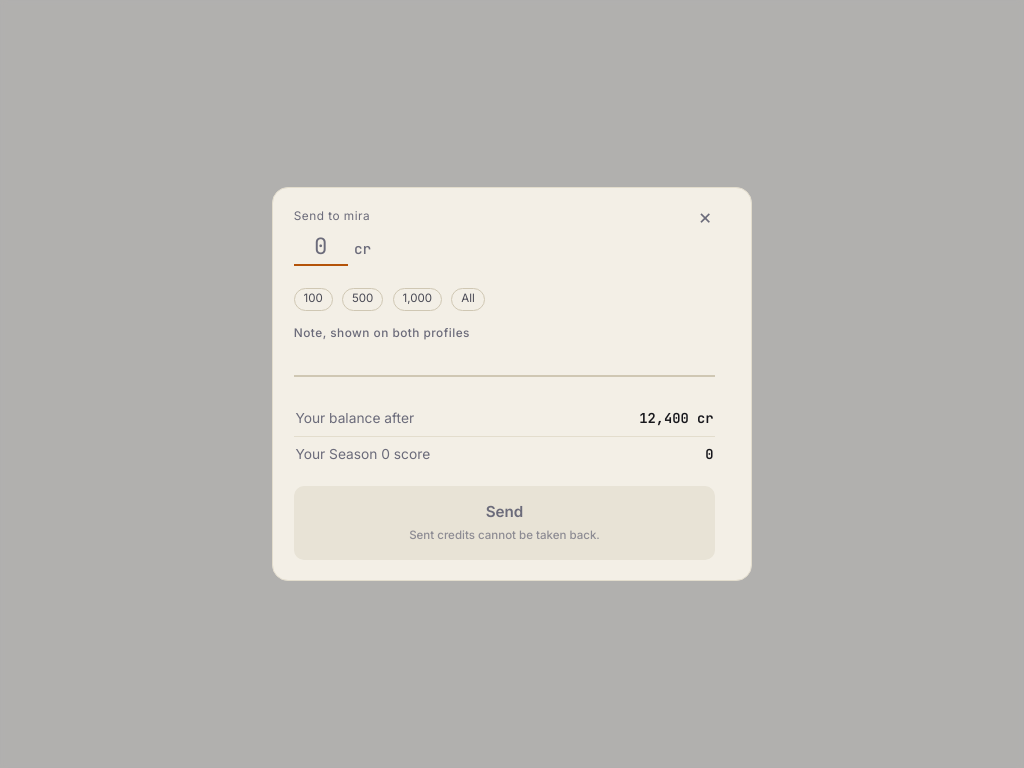
Test: the send ticket › the quick amounts fill the field
The image size is (1024, 768).
Expected: the text with test id "send-balance-after" reads "12,400 cr", [639,409,714,427]
Click the button "1,000". click: x=417, y=299
box: [393,288,442,310]
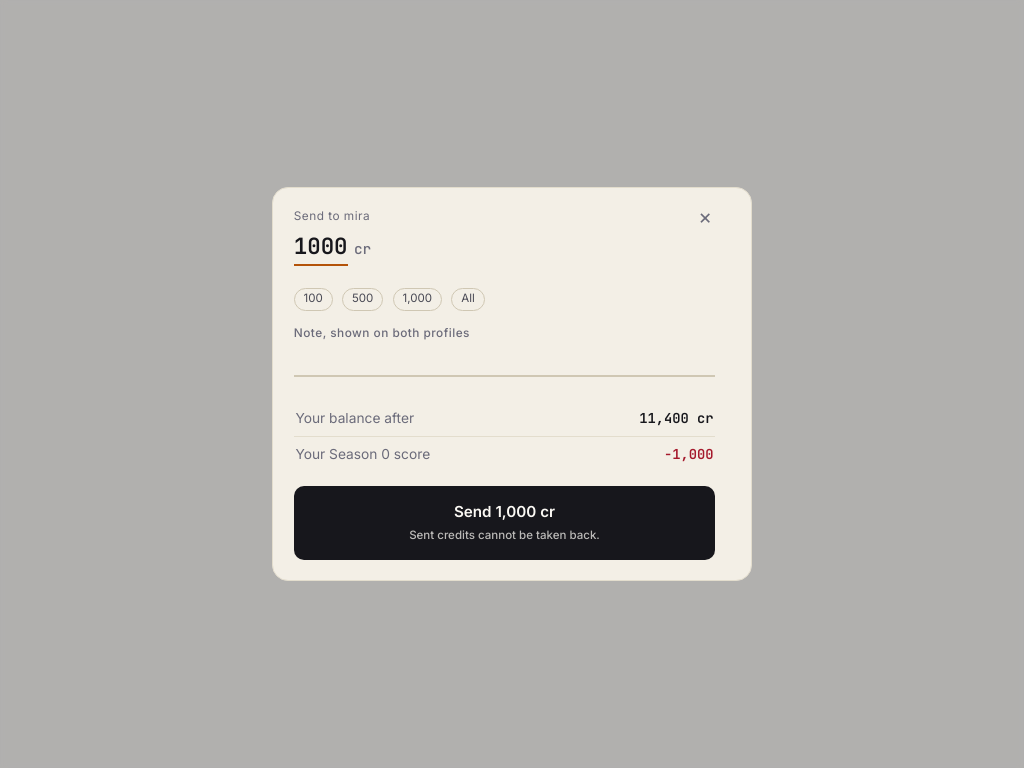
Expected: the field named "Amount in credits" holds "1000", [294,230,348,266]
Expected: the text with test id "send-balance-after" reads "11,400 cr", [639,409,714,427]
